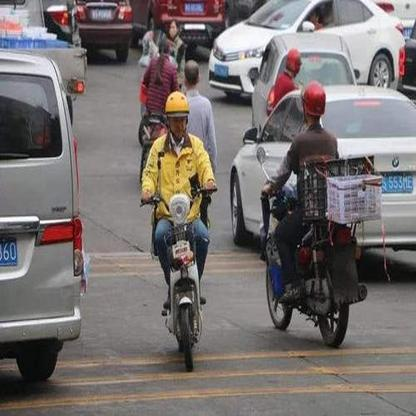target: (255, 80, 385, 346), (138, 90, 225, 372)
